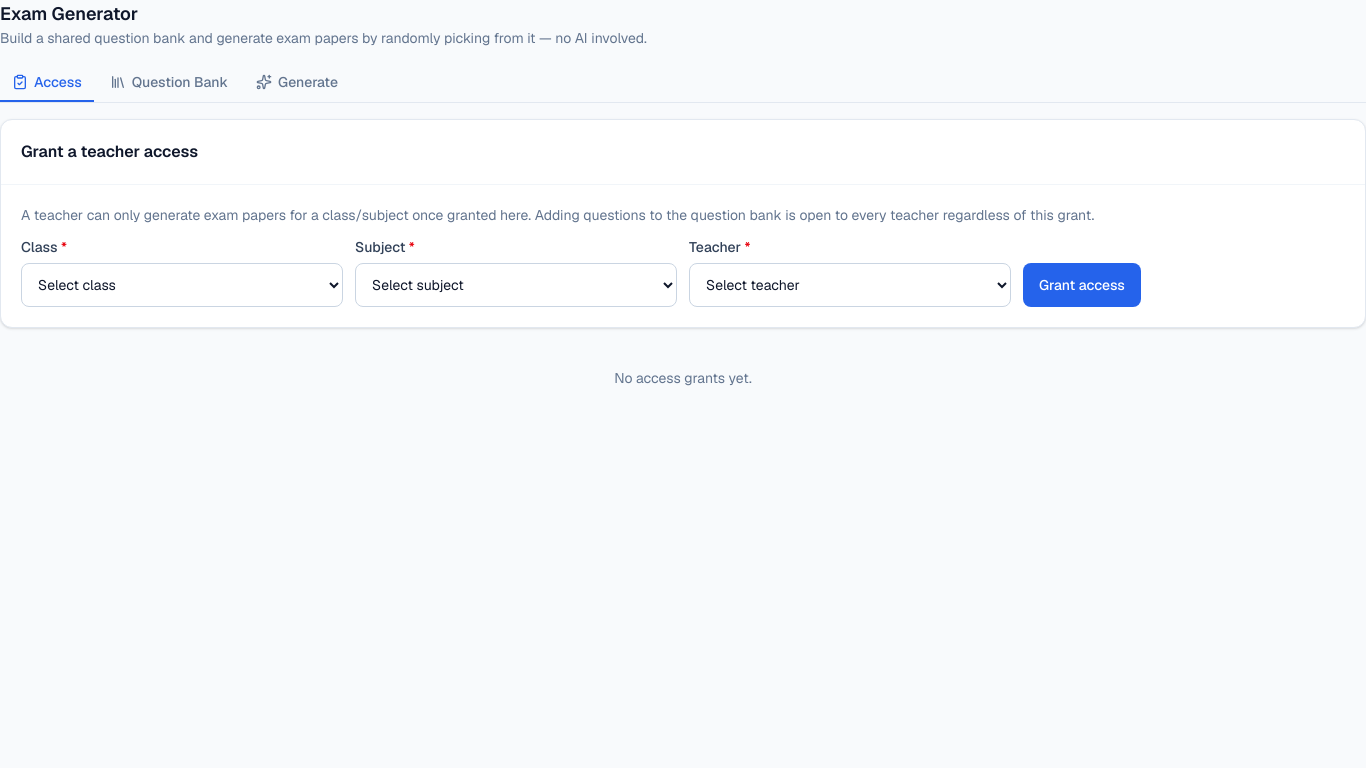
Test case: ExamGeneratorPage › Generate tab › shows the generated paper with a download button on success, and lists history with per-row download
Click the button "Generate" at (297, 83), box top-left (244, 64), bottom-right (350, 102)
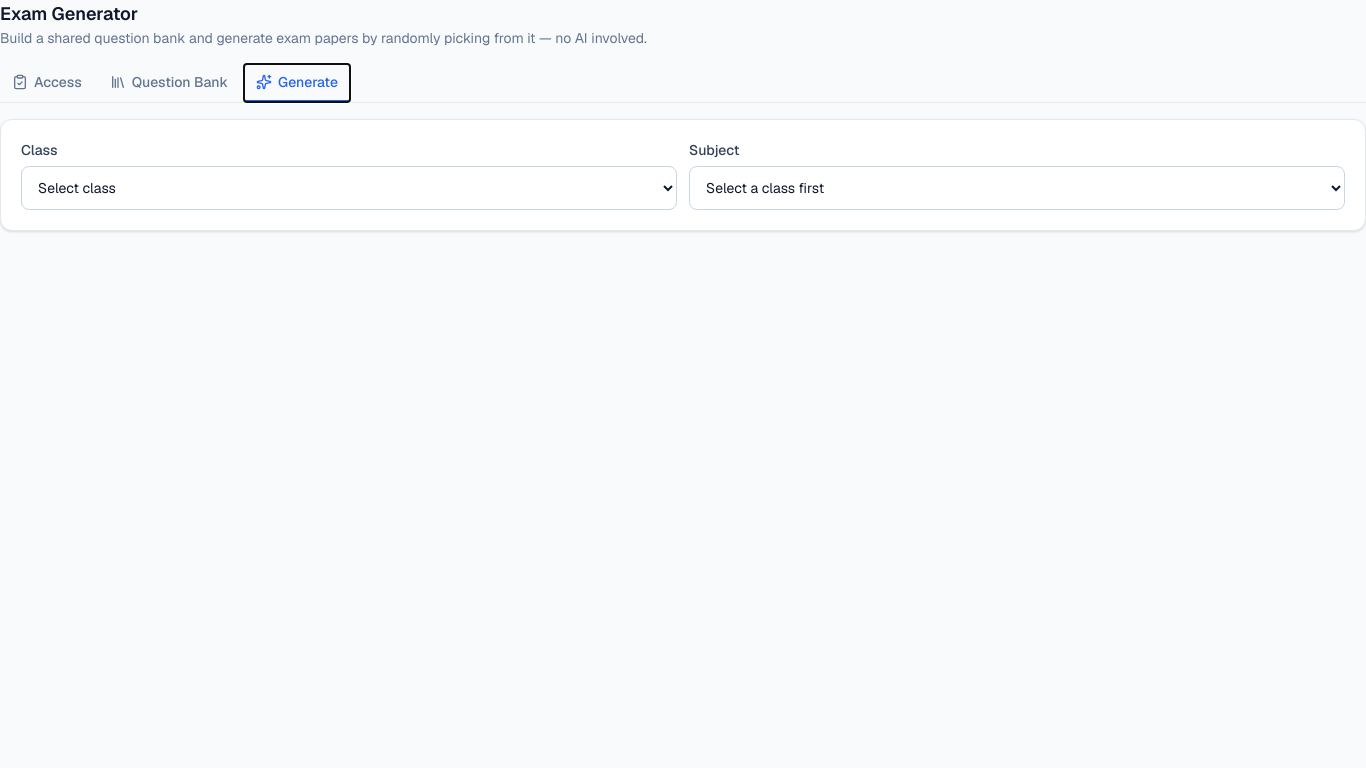
Select "Class 5" in the dropdown labelled "Class" at (349, 188), box top-left (21, 166), bottom-right (677, 210)
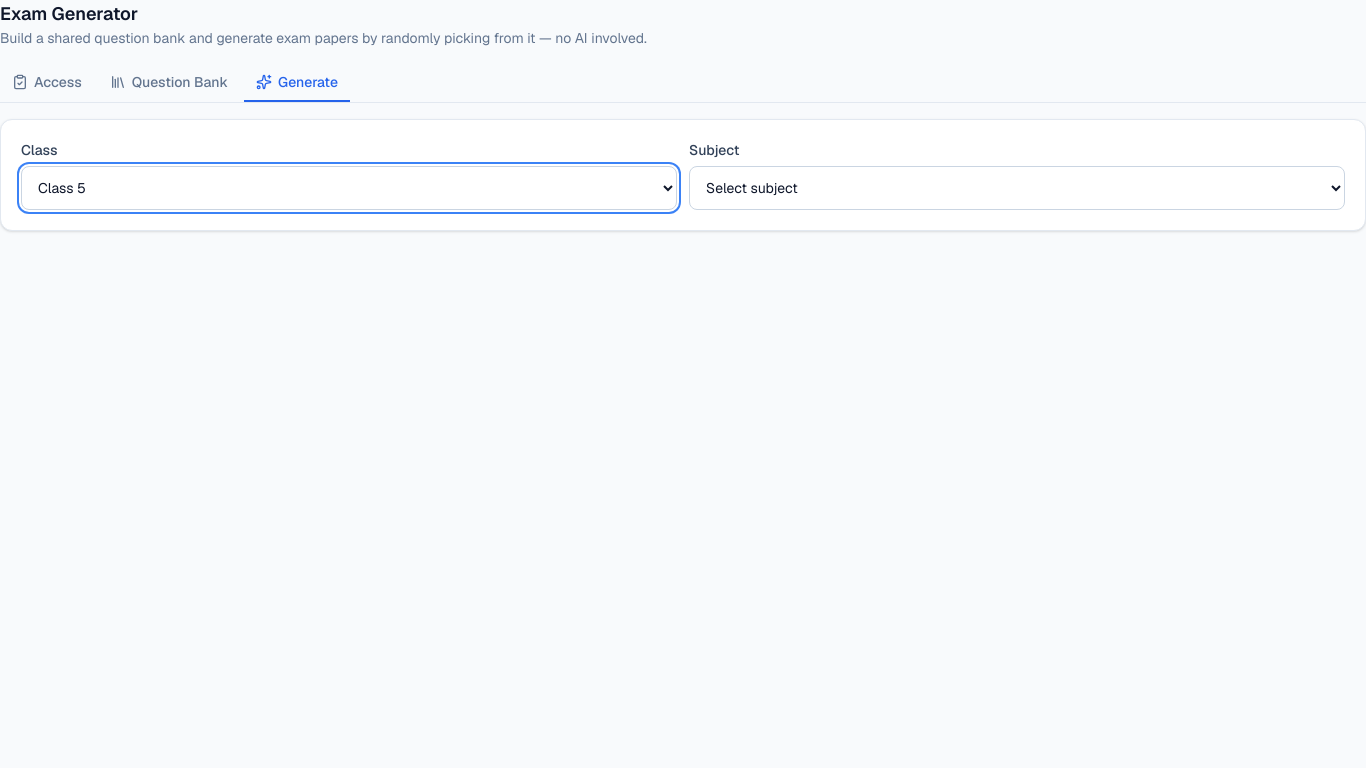
Select "Mathematics" in the dropdown labelled "Subject" at (1017, 188), box top-left (689, 166), bottom-right (1345, 210)
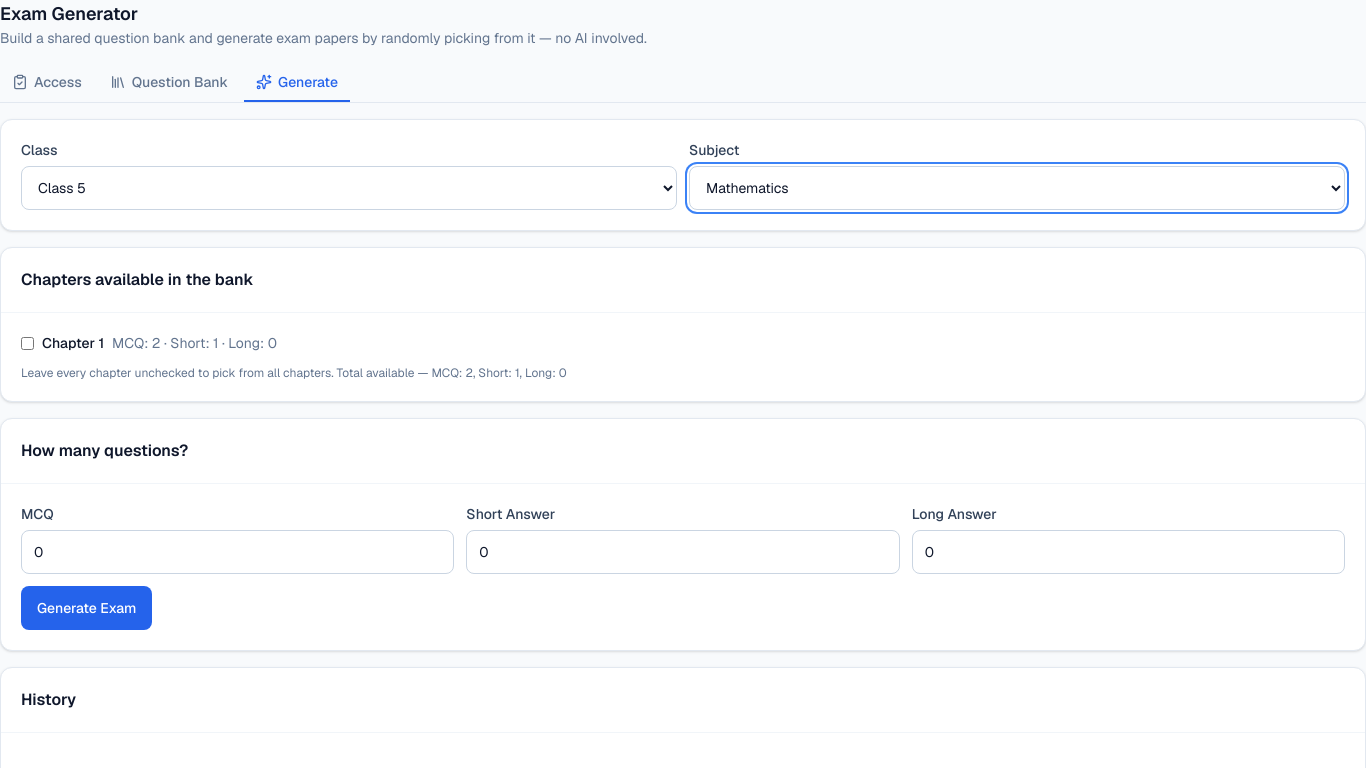
Replace the text in the number field labelled "MCQ" with "1" at (238, 552), box top-left (21, 530), bottom-right (454, 574)
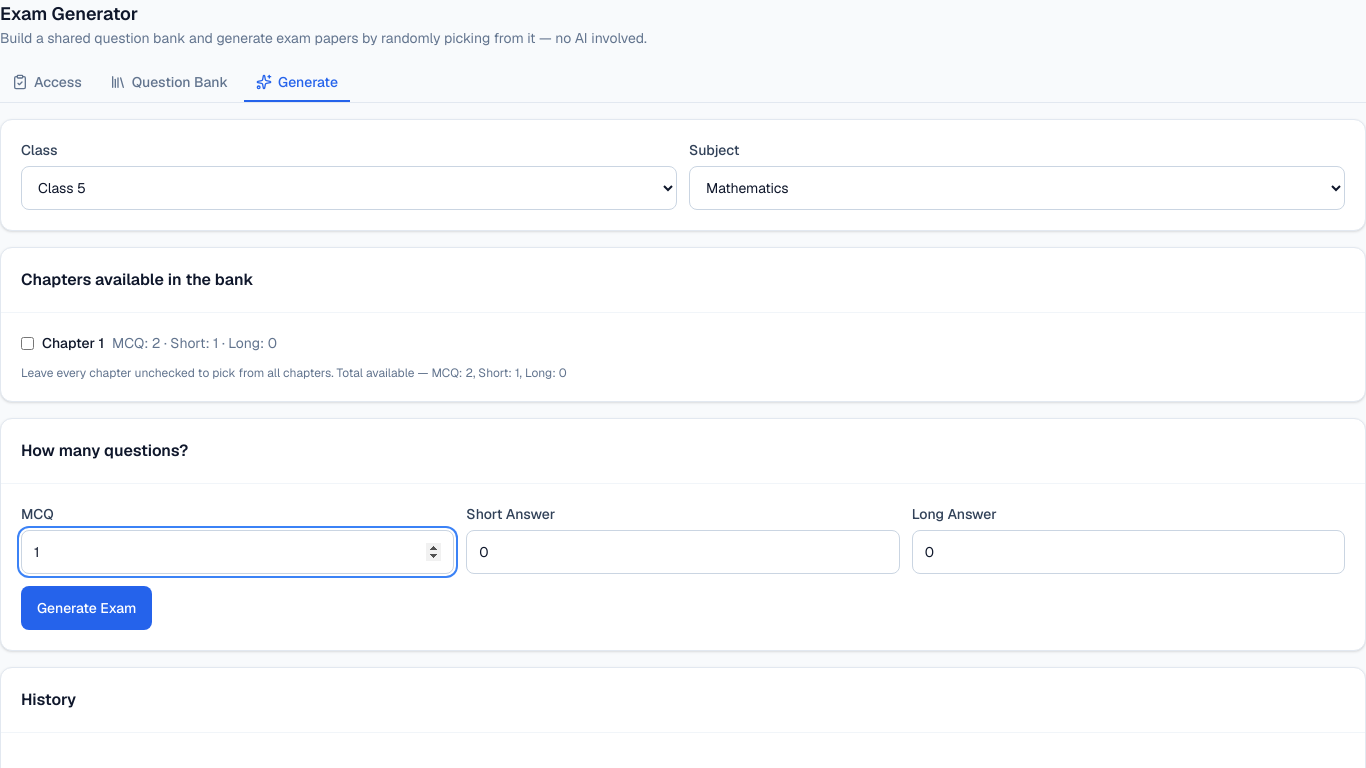
Click the button "Generate Exam" at (87, 608), box top-left (21, 586), bottom-right (152, 630)
(page scrolled)
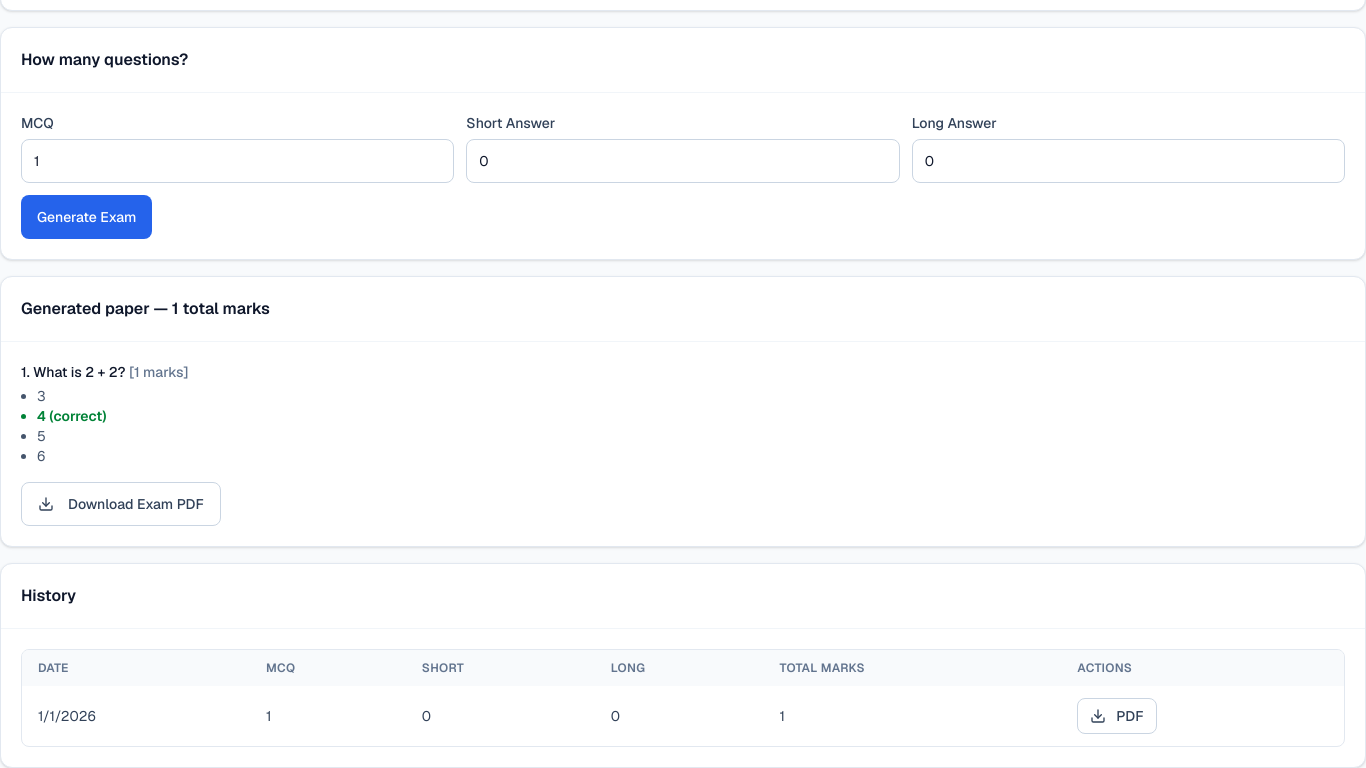
Check: the heading "Generated paper — 1 total marks" is shown, box top-left (21, 298), bottom-right (270, 319)
Check: the list item "4 (correct)" is shown, box top-left (37, 407), bottom-right (106, 425)
Check: the button "Download Exam PDF" is shown, box top-left (21, 482), bottom-right (221, 526)
